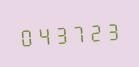four: (34, 22, 50, 48)
seven: (69, 20, 85, 45)
three: (52, 21, 68, 47), (103, 17, 119, 43)
two: (86, 18, 102, 44)
zero: (17, 23, 33, 49)
